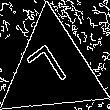L_SE: (27, 40, 77, 100)
